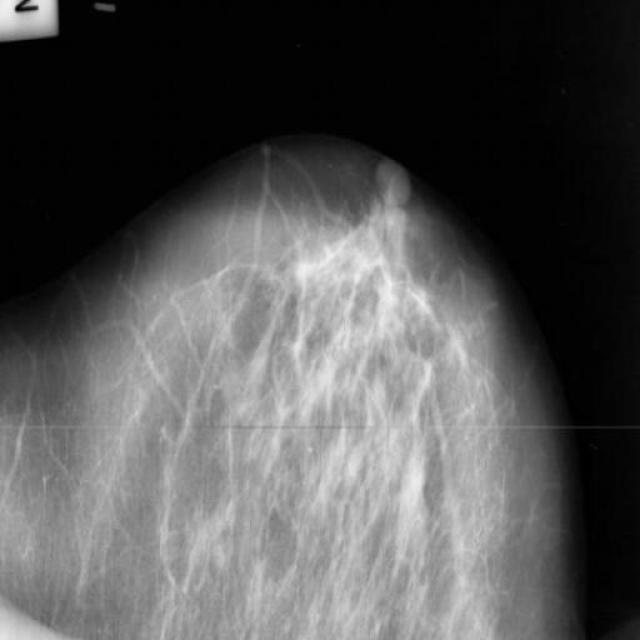cancer: (260, 215, 362, 347)
